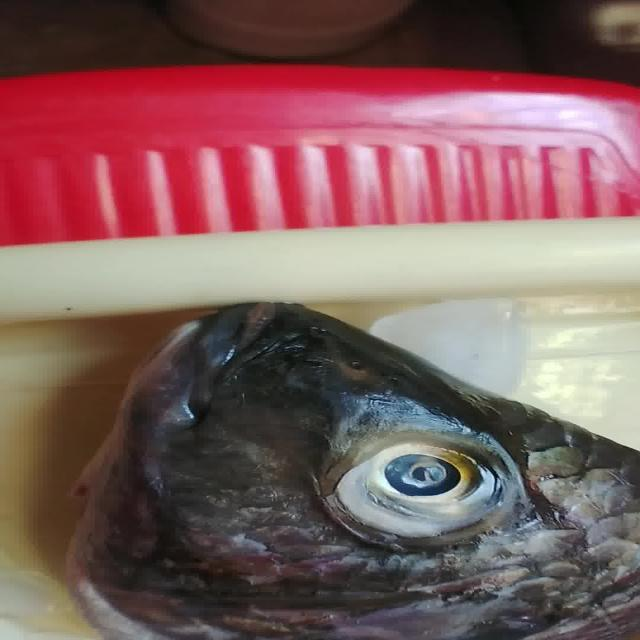Fresh: (255, 410, 545, 559)
